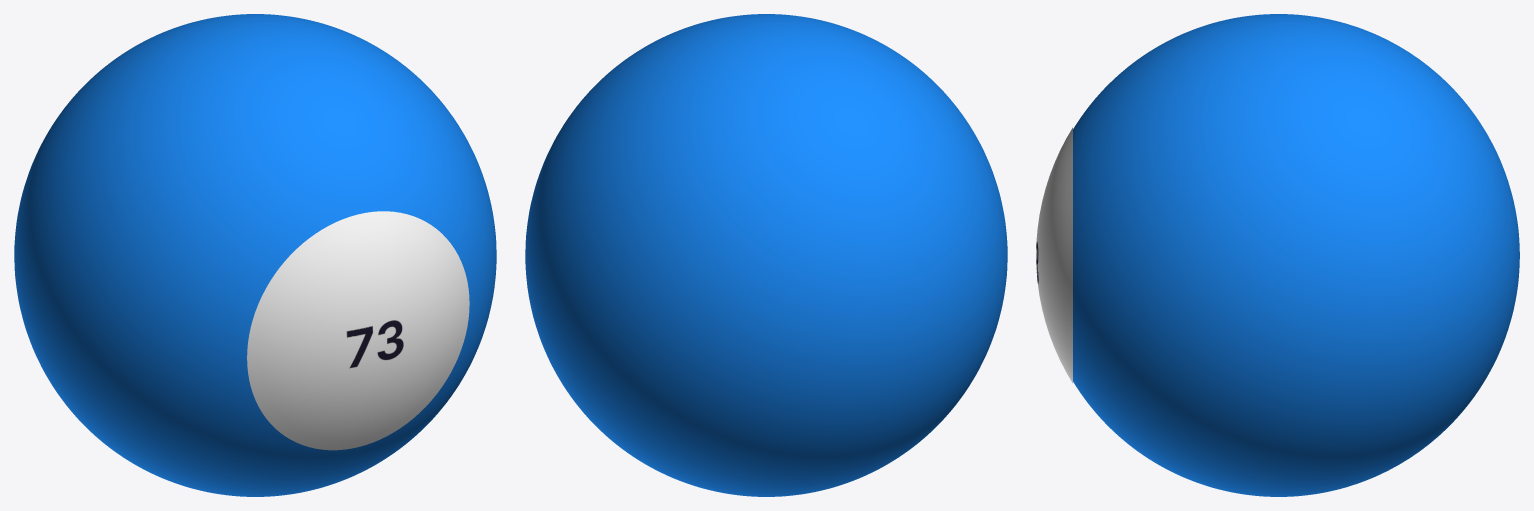
File: ball-73.glb
The picture shows the model from 3 angles, left to right: view 1: azimuth 30°, elevation 25°; view 2: azimuth 150°, elevation 25°; view 3: azimuth 270°, elevation 25°; orthographic projection.
Visible parts, largest first — view 1: Ball_73_Shell, Ball_73_Number_Disc; view 2: Ball_73_Shell; view 3: Ball_73_Shell, Ball_73_Number_Disc.
Part boxes in pixels (bbox=[...]): Ball_73_Shell: bbox=[14, 14, 496, 496]; Ball_73_Number_Disc: bbox=[247, 211, 469, 450]; Ball_73_Shell: bbox=[525, 14, 1007, 496]; Ball_73_Shell: bbox=[1073, 14, 1519, 496]; Ball_73_Number_Disc: bbox=[1036, 127, 1072, 383].
Size of the model in its own units: 1.84 by 1.84 by 1.84.
Materials: 2 (1 with a texture image).
